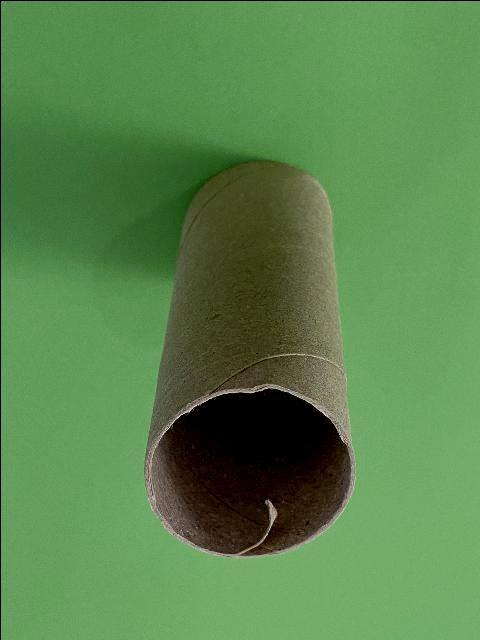tissueroll: (142, 154, 358, 560)
